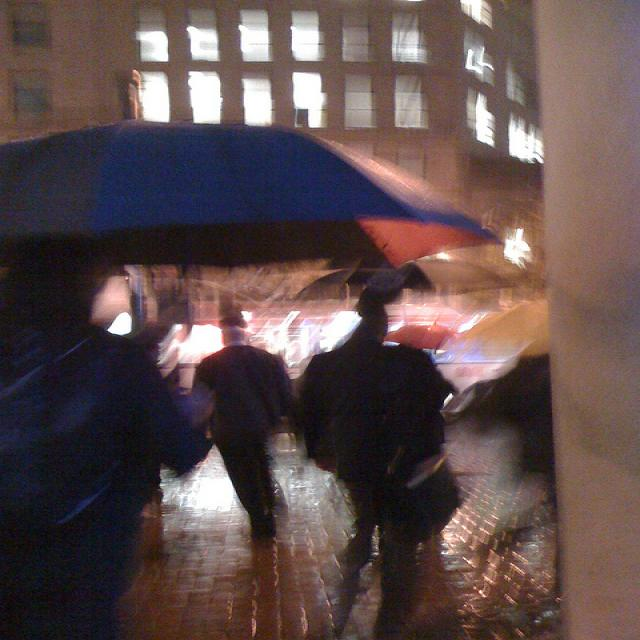Vehicle: (384, 322, 454, 349)
